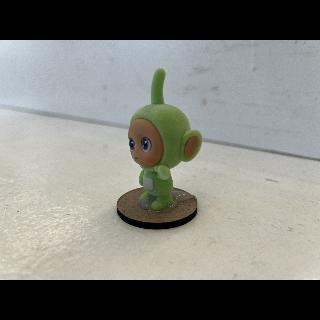teletubby: (128, 68, 202, 212)
